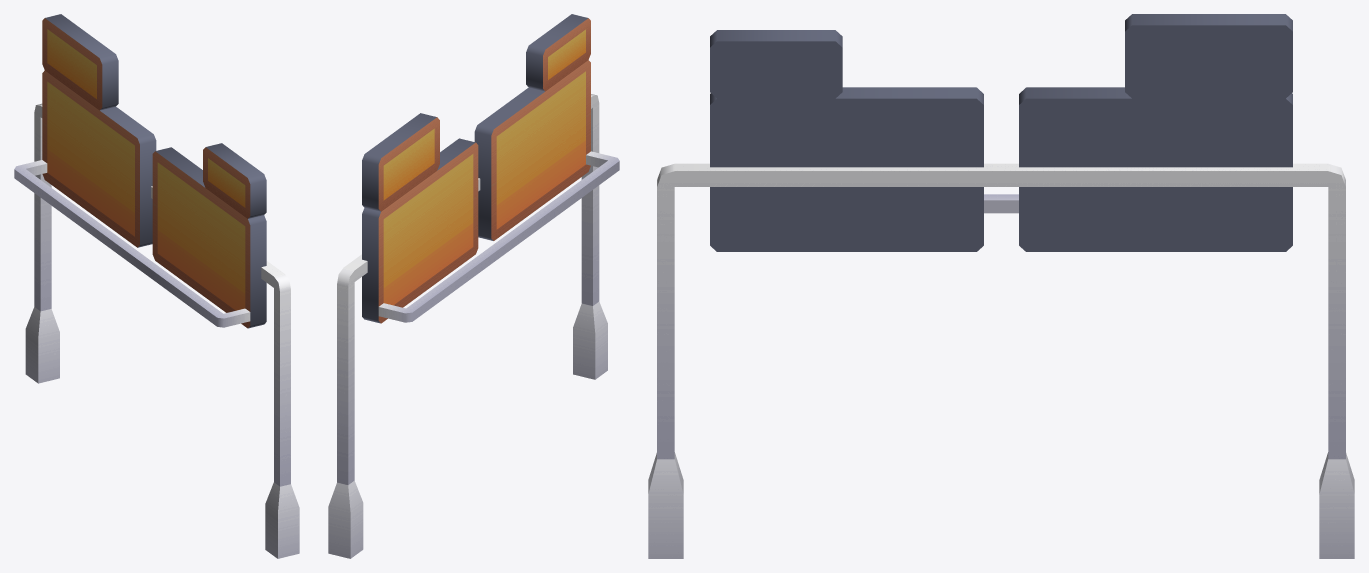
The model's file is sign-highway-detailed.glb.
The picture shows the model from 3 angles, left to right: view 1: azimuth 30°, elevation 25°; view 2: azimuth 150°, elevation 25°; view 3: azimuth 270°, elevation 25°; orthographic projection. The views are drawn at different scales.
Visible parts, largest first — view 1: sign-highway-detailed; view 2: sign-highway-detailed; view 3: sign-highway-detailed.
Boxes of the visible parts, box(x1,y1,x2,y2) form: sign-highway-detailed: box(14, 14, 299, 558); sign-highway-detailed: box(328, 14, 619, 558); sign-highway-detailed: box(648, 14, 1354, 558).
Bounding box in the file's own units: 0.1324 × 0.8221 × 1.
1 material, 1 textured.
